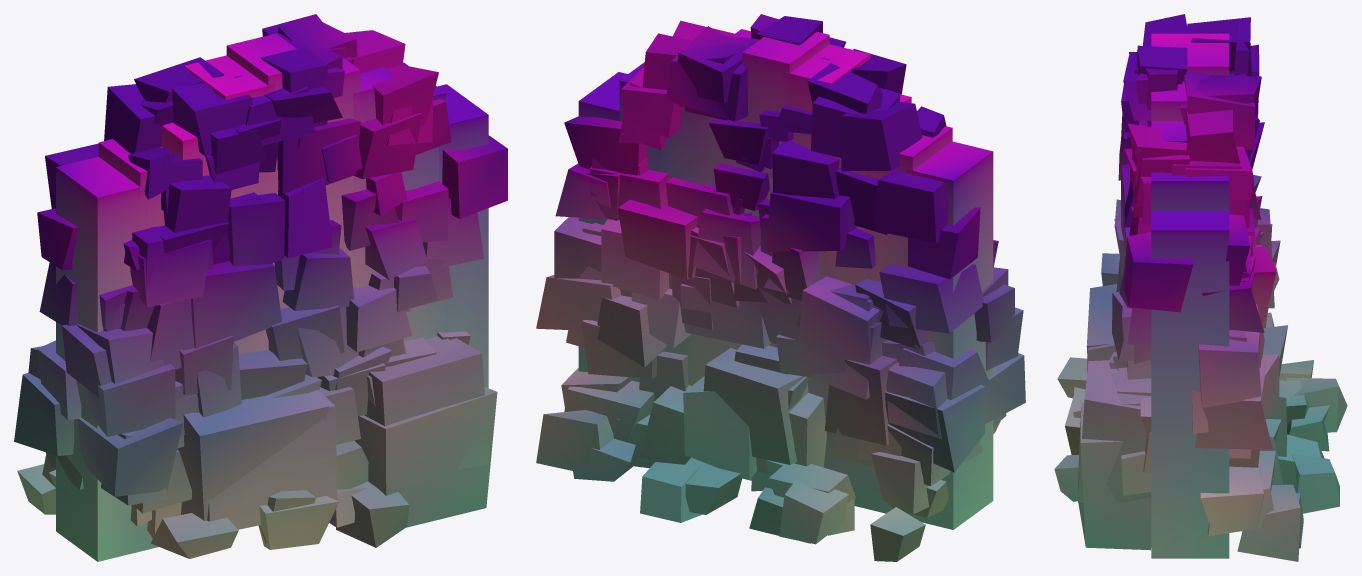
Rendered from rubble_choke_4m.glb.
3 renders of one model, left to right at view 1: azimuth 30°, elevation 25°; view 2: azimuth 150°, elevation 25°; view 3: azimuth 270°, elevation 25°, orthographic. The views are drawn at different scales.
Visible parts, largest first — view 1: choke_debris, choke_core; view 2: choke_debris, choke_core; view 3: choke_debris, choke_core.
Boxes of the visible parts, box(x1,y1,x2,y2) form: choke_debris: box(14, 14, 507, 558); choke_core: box(56, 33, 488, 561); choke_debris: box(536, 14, 1025, 561); choke_core: box(578, 29, 993, 529); choke_debris: box(1054, 14, 1347, 561); choke_core: box(1151, 33, 1229, 558).
Bounding box in the file's own units: 3.84 × 3.96 × 2.41.
